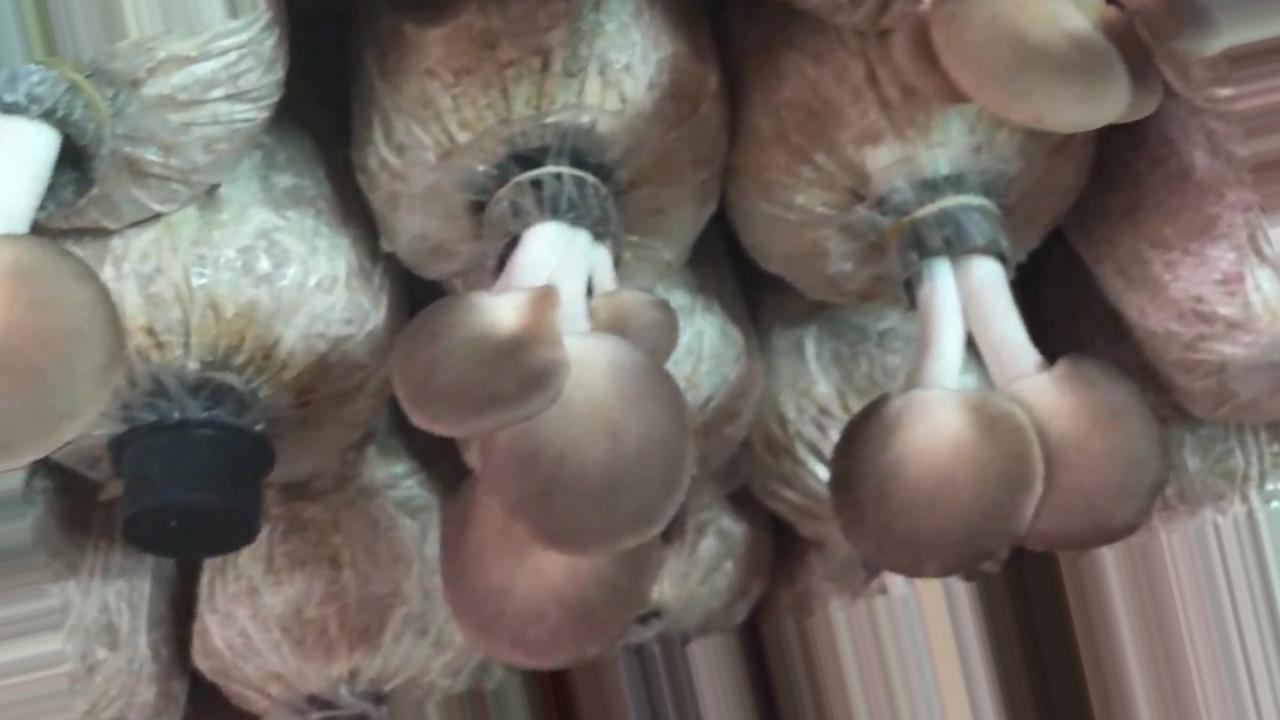nam: (390, 167, 694, 669), (834, 195, 1167, 578), (1, 65, 128, 465), (923, 1, 1134, 133)
